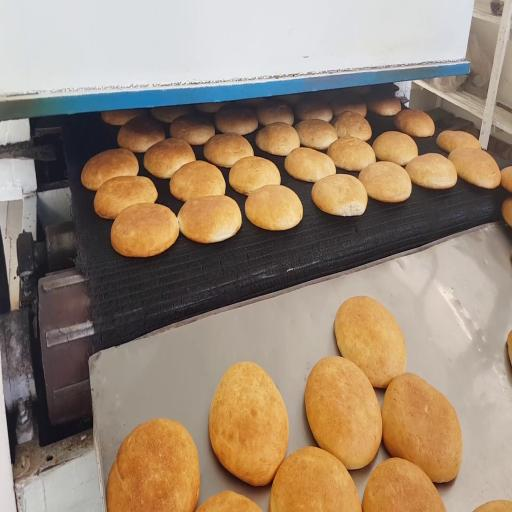bread: (209, 362, 289, 485), (382, 374, 462, 482), (305, 357, 382, 469), (106, 419, 199, 511), (335, 296, 406, 388), (269, 447, 361, 511), (363, 458, 446, 511), (111, 203, 179, 257), (178, 196, 241, 243), (94, 176, 157, 219), (245, 185, 302, 230), (81, 149, 139, 191), (312, 174, 367, 216), (170, 161, 225, 201), (449, 148, 500, 189), (359, 162, 411, 202), (144, 138, 195, 178), (229, 156, 280, 195), (406, 154, 457, 189), (285, 148, 335, 182), (118, 117, 165, 153), (328, 136, 375, 171), (204, 134, 253, 167), (373, 131, 418, 165), (256, 122, 300, 155), (170, 115, 214, 145), (215, 105, 258, 135), (197, 491, 261, 511), (296, 119, 337, 149), (332, 111, 371, 141), (394, 110, 434, 137), (437, 130, 481, 153), (256, 101, 293, 125), (295, 100, 332, 122), (150, 105, 194, 123), (101, 109, 147, 126), (331, 98, 366, 117), (367, 97, 401, 116), (474, 501, 511, 511), (275, 93, 307, 104), (195, 102, 225, 113), (343, 85, 371, 95), (236, 98, 266, 107), (502, 198, 511, 227), (501, 167, 511, 192), (507, 331, 511, 364)
